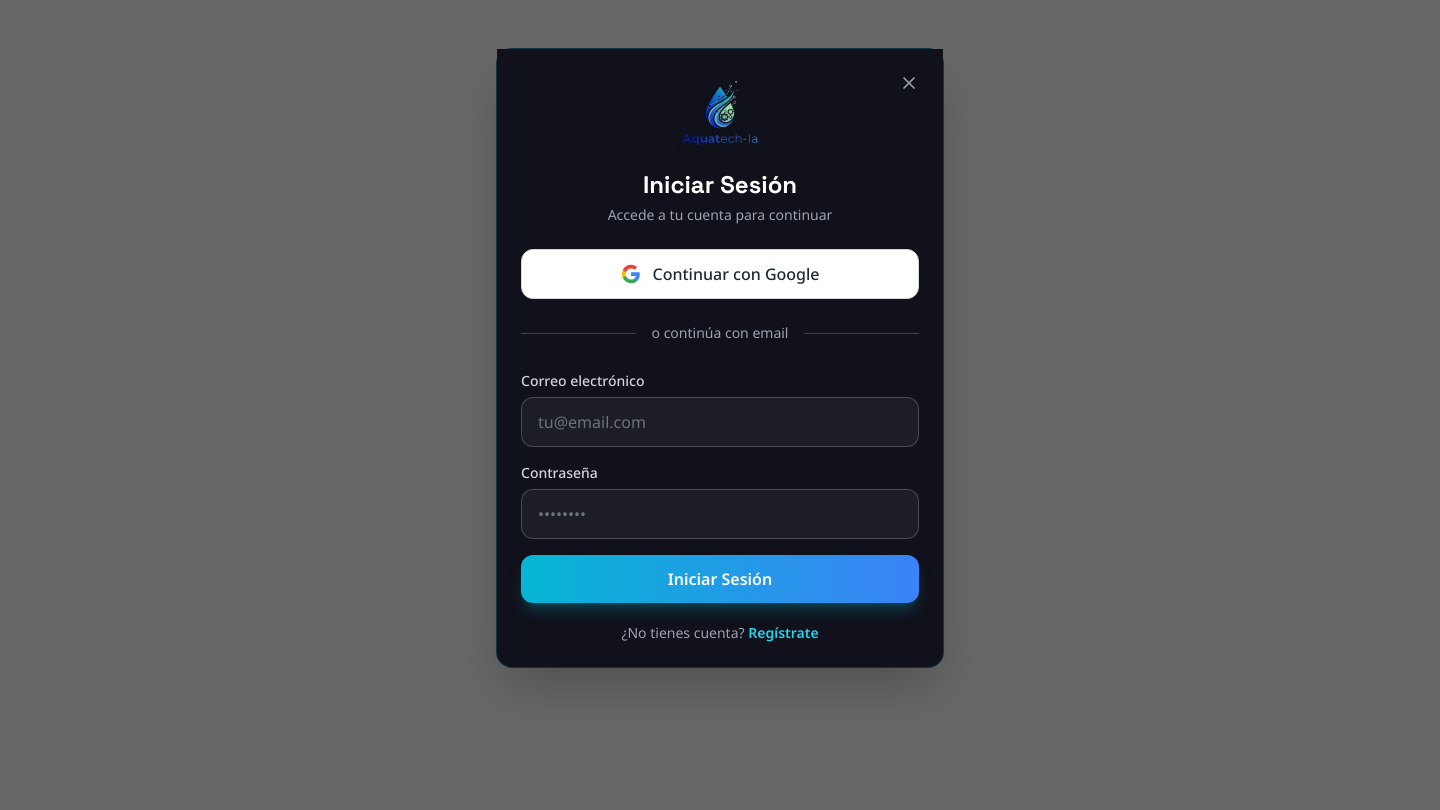
Test case: AuthModal › Unauthenticated state › should show loading state during sign-in
Click the button "Continuar con Google".
click(720, 274)  # box [521, 249, 919, 299]
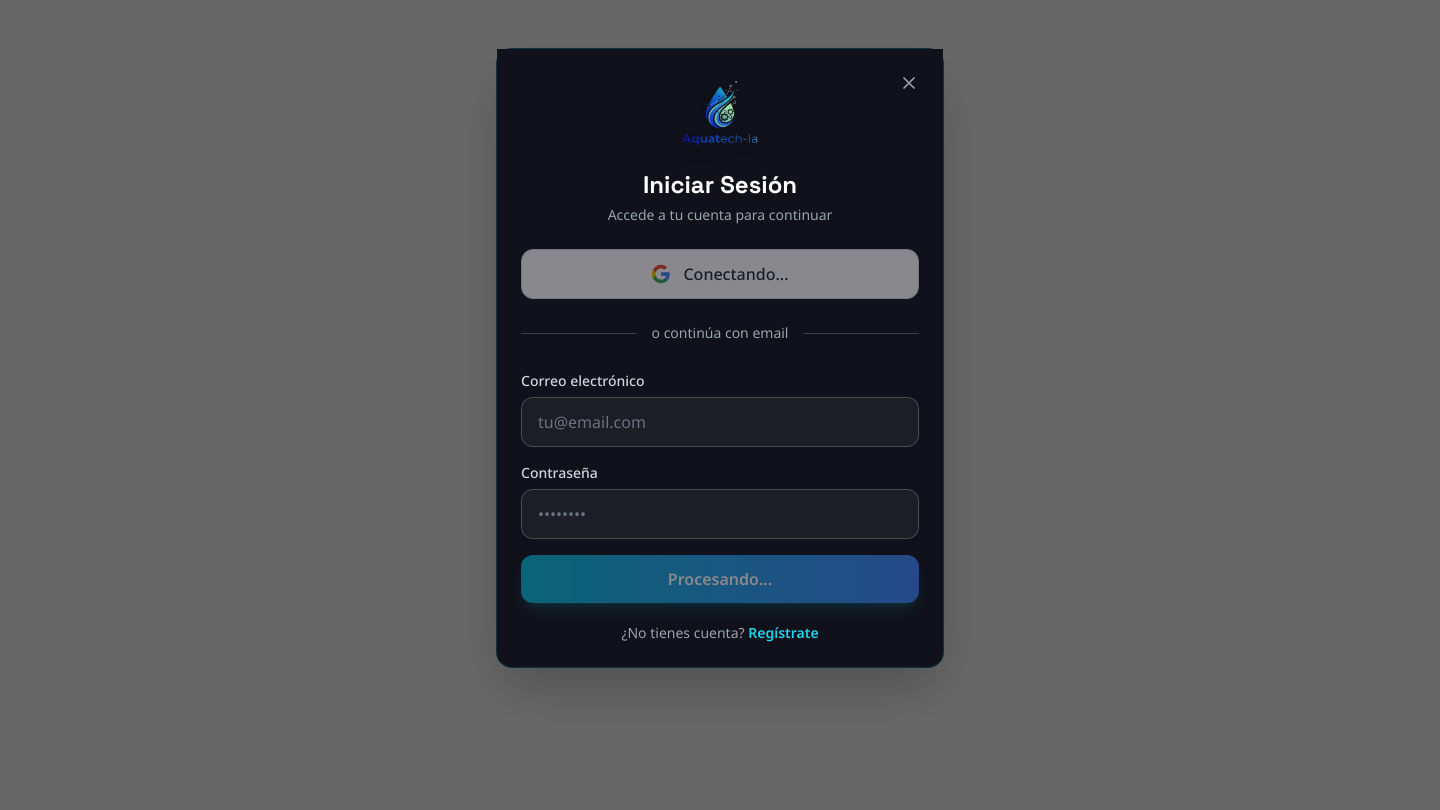
Expected: the text "Conectando..." is shown, [684, 262, 789, 286]
Expected: the button "Conectando..." is disabled, [521, 249, 919, 299]
